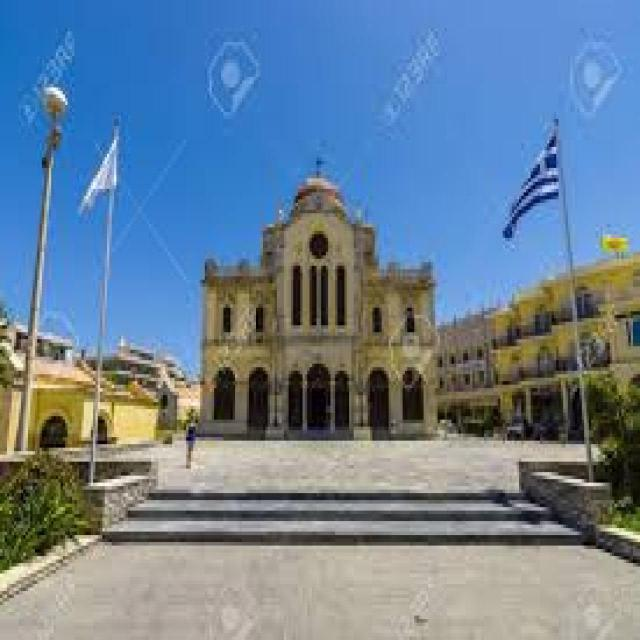Agios Minas: (199, 140, 443, 438)
